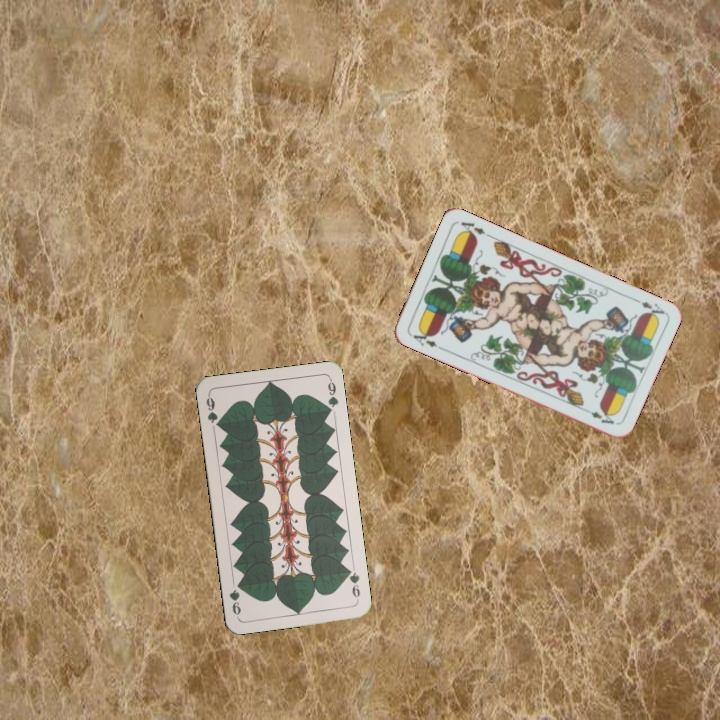EA: (406, 326, 445, 353), (629, 294, 667, 321)
G9: (202, 391, 223, 430), (343, 564, 363, 603)
